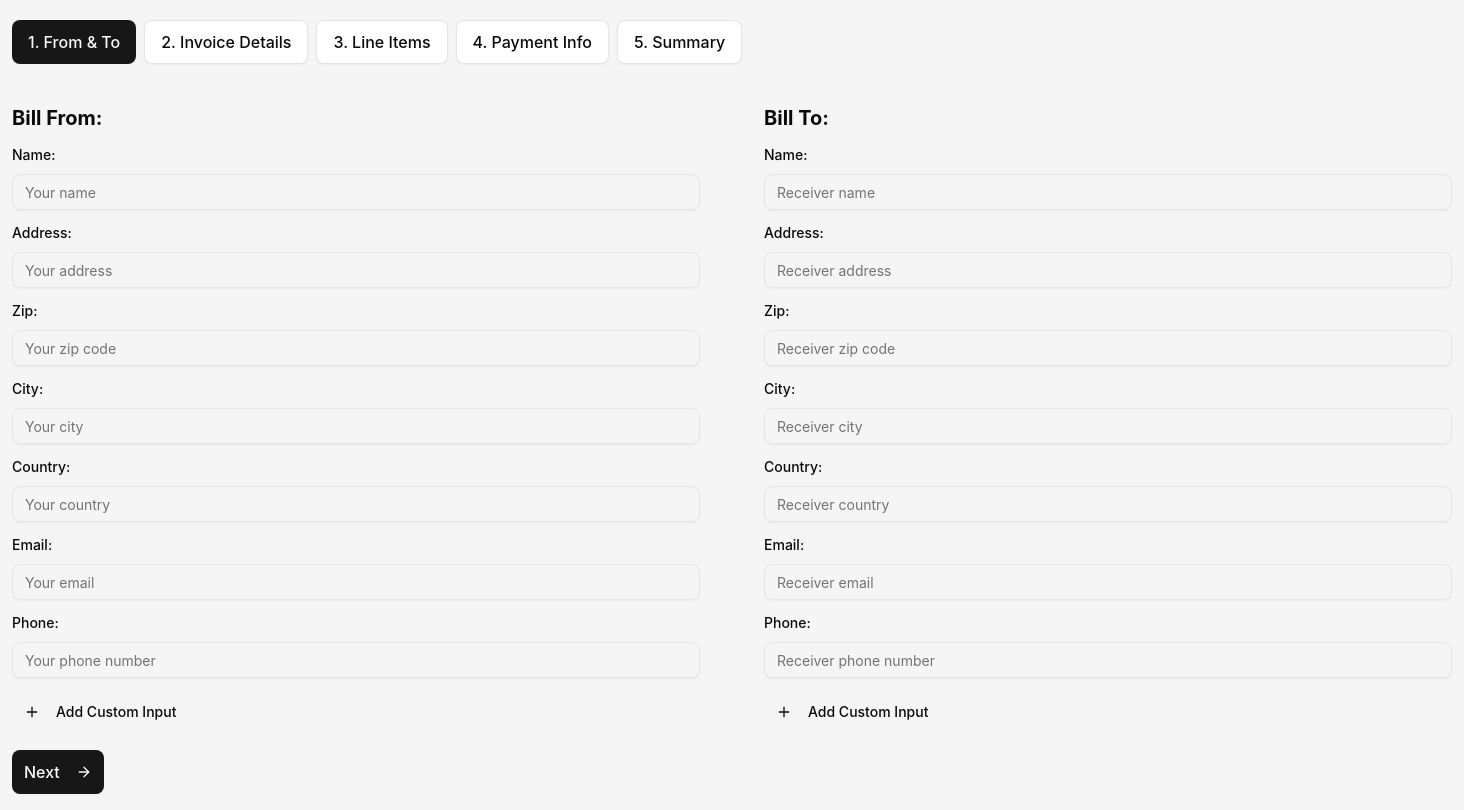
Test: InvoiceInfo › navigates directly to Payment Info (page 3) when that tab button is clicked
Click the button "4. Payment Info": click(532, 42) [456, 20, 609, 64]
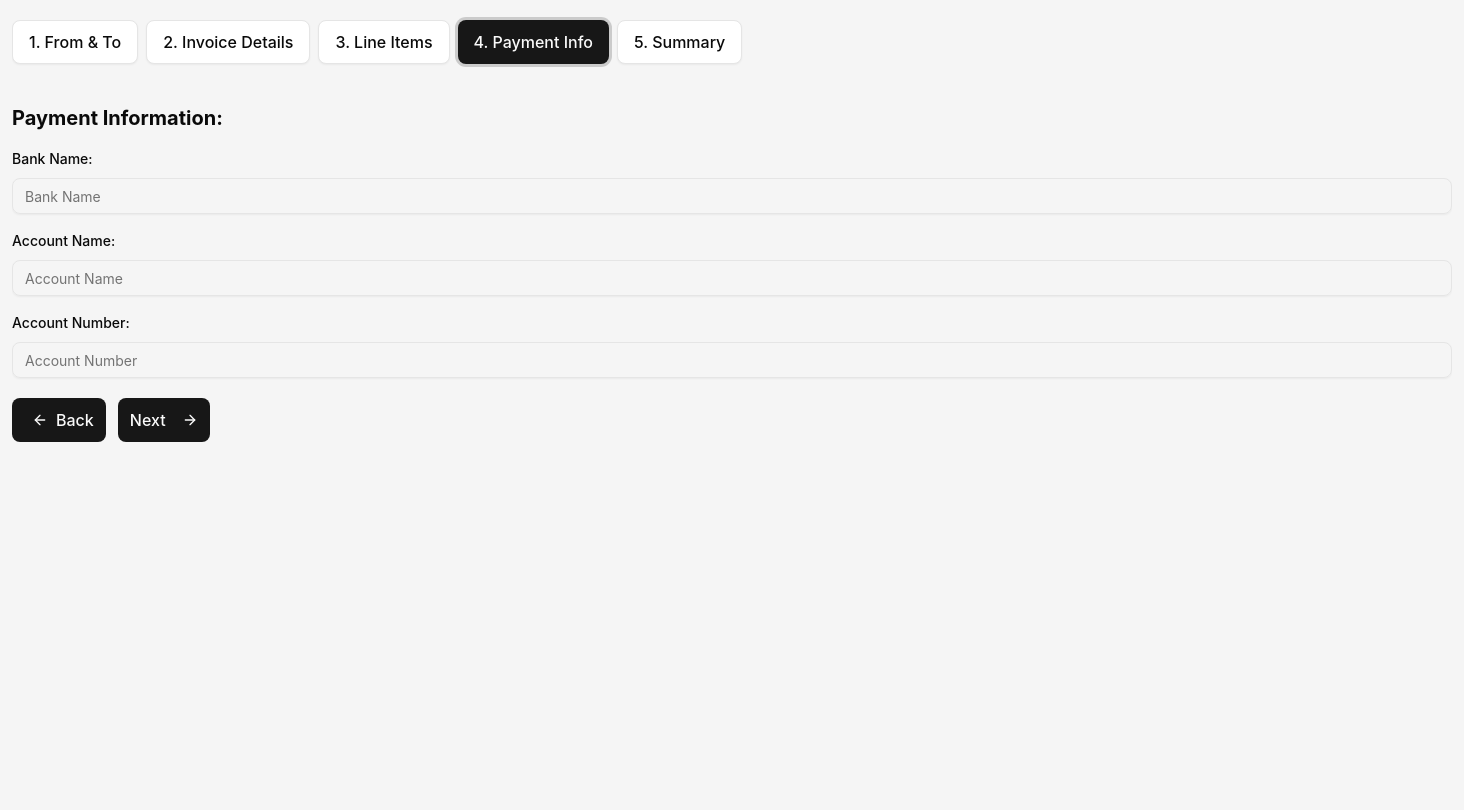
expect the heading "Payment Information:" is shown: met, box [12, 106, 223, 130]
